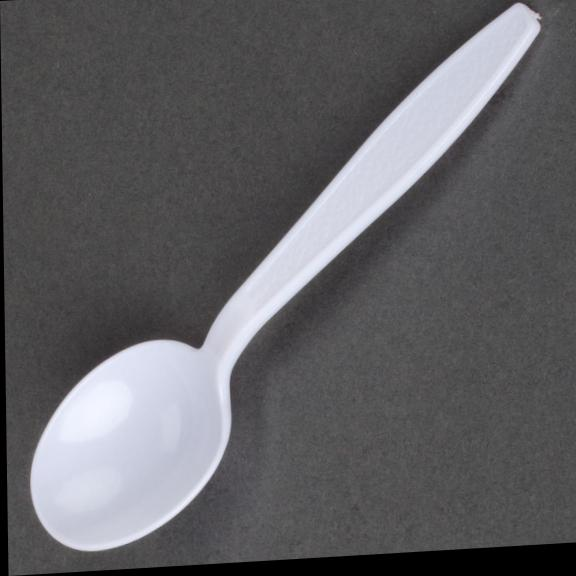Plastik: (31, 3, 539, 549)
